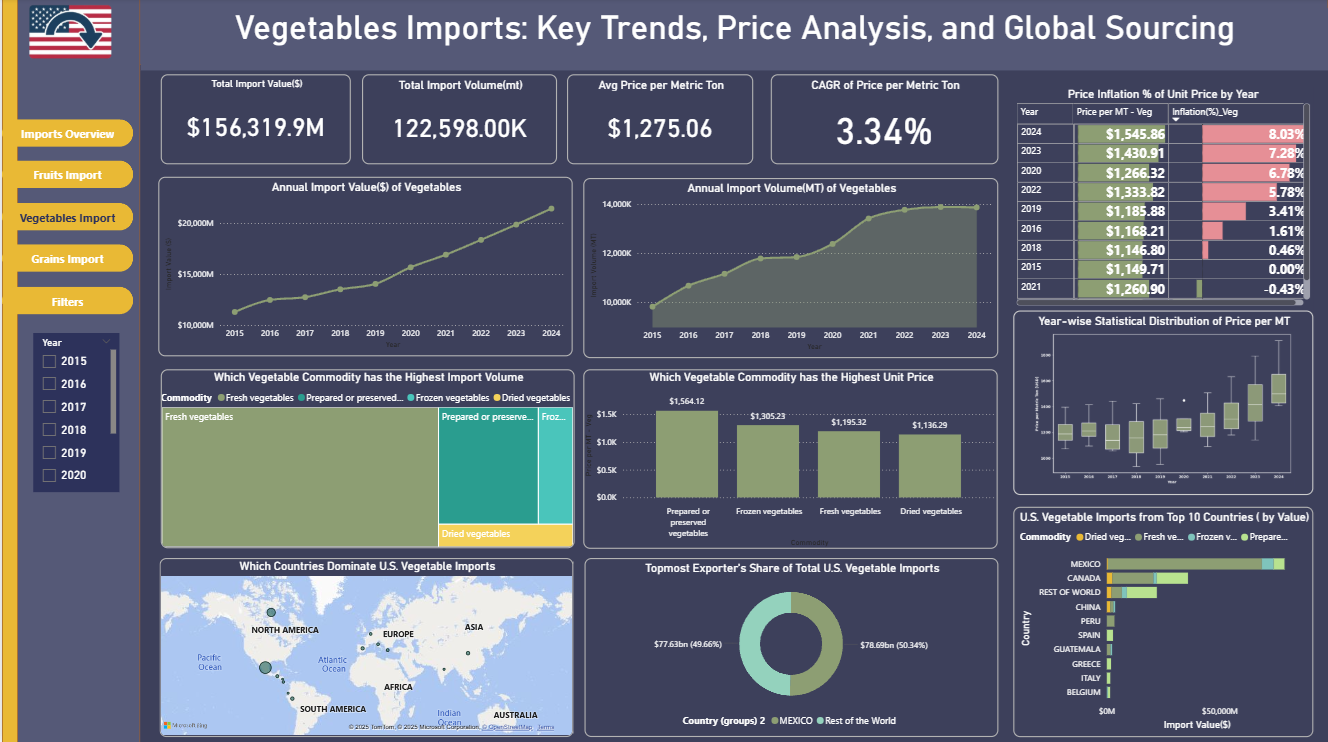

The dashboard page shown, as its layout file describes it:
{"tool":"powerbi","page":{"name":"Vegetables","canvas":[1920,1080],"ordinal":2},"visuals":[{"type":"actionButton","title":"Overview","box":[0,175.5,190,40],"z":0,"group":"g1"},{"type":"lineChart","title":"Annual Import Value($) of Vegetables","fields":{"Category":["US_FoodImports_Summary.Year"],"Y":["US_FoodImports_Summary.FoodValue($)_Veg"]},"box":[226.8,259.5,600,260],"z":0},{"type":"actionButton","title":"Fruits","box":[0,236,190,40],"z":1000,"group":"g1"},{"type":"barChart","title":"U.S. Vegetable Imports from Top 10 Countries ( by Value)","fields":{"Category":["US_FoodImports_Country.Country"],"Series":["US_FoodImports_Country.Commodity"],"Y":["Sum(US_FoodImports_Country.FoodValue($))"]},"box":[1463.5,736.9,434.3,333.4],"z":1000},{"type":"actionButton","title":"Vegetables","box":[0,296.5,190,40],"z":2000,"group":"g1"},{"type":"donutChart","title":"Topmost Exporter''s  Share of Total U.S. Vegetable Imports","fields":{"Y":["Sum(US_FoodImports_Country.FoodValue($))"],"Category":["US_FoodImports_Country.Country (groups) 2"]},"box":[843.9,811,599,259.3],"z":2000},{"type":"card","title":"Total Import Value($)","fields":{"Values":["US_FoodImports_Summary.FoodValue($)_Veg"]},"box":[229.8,110.9,275.1,130.3],"z":3000},{"type":"actionButton","title":"Grians","box":[0,357,190,40],"z":3000,"group":"g1"},{"type":"card","title":"Total Import Volume(mt)","fields":{"Values":["US_FoodImports_Summary.FoodVolume(mt)_Veg"]},"box":[521.1,110.9,282.3,130.3],"z":4000},{"type":"card","title":"Avg Price per Metric Ton","fields":{"Values":["US_FoodImports_Summary.Price per MT - Veg"]},"box":[817.9,110.9,269.6,130.3],"z":5000},{"type":"card","title":"CAGR of  Price per Metric Ton","fields":{"Values":["US_FoodImports_Summary.CAGR _Veg"]},"box":[1113.3,110.5,329.4,130.3],"z":6000},{"type":"map","title":"Which Countries Dominate U.S. Vegetable Imports","fields":{"Category":["US_FoodImports_Country.Country"],"Size":["Sum(US_FoodImports_Country.FoodValue($))"]},"box":[228.5,811,599,259.3],"z":7000},{"type":"areaChart","title":"Annual Import Volume(MT) of Vegetables","fields":{"Category":["US_FoodImports_Summary.Year"],"Y":["US_FoodImports_Summary.FoodVolume(mt)_Veg"]},"box":[842.3,259.7,600.8,260.6],"z":8000},{"type":"pivotTable","title":"Price Inflation % of Unit Price by Year ","fields":{"Rows":["US_FoodImports_Summary.Year"],"Values":["US_FoodImports_Summary.Price per MT - Veg","US_FoodImports_Summary.Inflation(%)_Veg"]},"box":[1464,128.5,434.3,322.1],"z":9000},{"type":"clusteredColumnChart","title":"Which Vegetable Commodity has the Highest Unit Price","fields":{"Category":["US_FoodImports_Summary.Commodity"],"Y":["US_FoodImports_Summary.Price per MT - Veg"]},"box":[841.9,537.2,600,260],"z":10000},{"type":"treemap","title":"Which Vegetable Commodity has the Highest Import Volume","fields":{"Group":["US_FoodImports_Summary.Commodity"],"Values":["US_FoodImports_Summary.FoodVolume(mt)_Veg"]},"box":[230.5,537.2,599,259.3],"z":11000},{"type":"shape","box":[190,1.7,1730,95],"z":12000},{"type":"textbox","title":"Vegetables Imports: Key Trends, Price Analysis, and Global Sourcing ","box":[200,15,1719.7,90],"z":13000},{"type":"shape","box":[0,0,200,1080.4],"z":14000},{"type":"shape","box":[0,0,23,1080],"z":15000},{"type":"slicer","fields":{"Values":["DimYear.Year"]},"box":[45,485,125,230],"z":16000},{"type":"group","id":"g1","title":"Pages","box":[0,175.5,190,221.5],"z":17000},{"type":"actionButton","title":"Grians","box":[0,418,190,40],"z":18000},{"type":"image","box":[35,1.7,130,95],"z":19000},{"type":"pythonVisual","title":"Year-wise Statistical  Distribution of Price per MT","fields":{"Values":["US_FoodImports_Summary.Year","US_FoodImports_Summary.Commodity","US_FoodImports_Summary.Category","US_FoodImports_Summary.Price per MT - Veg"]},"box":[1463.5,452.8,434.3,267.6],"z":20000}]}

Visuals, with their boxes in screenshot pixels (x1, y1, x2, y2), scaled from the page's 1920x1080 canvas onto the 1328x742 screenshot:
"Overview" actionButton: 0, 121, 131, 148
"Annual Import Value($) of Vegetables" lineChart: 157, 178, 572, 357
"Fruits" actionButton: 0, 162, 131, 190
"U.S. Vegetable Imports from Top 10 Countries ( by Value)" barChart: 1012, 506, 1313, 735
"Vegetables" actionButton: 0, 204, 131, 231
"Topmost Exporter''s  Share of Total U.S. Vegetable Imports" donutChart: 584, 557, 998, 735
"Total Import Value($)" card: 159, 76, 349, 166
"Grians" actionButton: 0, 245, 131, 273
"Total Import Volume(mt)" card: 360, 76, 556, 166
"Avg Price per Metric Ton" card: 566, 76, 752, 166
"CAGR of  Price per Metric Ton" card: 770, 76, 998, 165
"Which Countries Dominate U.S. Vegetable Imports" map: 158, 557, 572, 735
"Annual Import Volume(MT) of Vegetables" areaChart: 583, 178, 998, 357
"Price Inflation % of Unit Price by Year " pivotTable: 1013, 88, 1313, 310
"Which Vegetable Commodity has the Highest Unit Price" clusteredColumnChart: 582, 369, 997, 548
"Which Vegetable Commodity has the Highest Import Volume" treemap: 159, 369, 574, 547
shape: 131, 1, 1327, 66
"Vegetables Imports: Key Trends, Price Analysis, and Global Sourcing " textbox: 138, 10, 1327, 72
shape: 0, 0, 138, 741
shape: 0, 0, 16, 741
slicer - DimYear.Year: 31, 333, 118, 491
"Pages" group: 0, 121, 131, 273
"Grians" actionButton: 0, 287, 131, 315
image: 24, 1, 114, 66
"Year-wise Statistical  Distribution of Price per MT" pythonVisual: 1012, 311, 1313, 495
